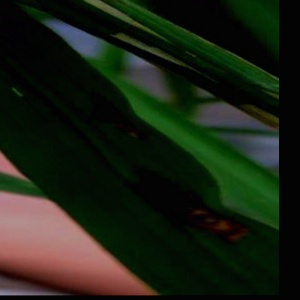Brown_Spot: (120, 162, 254, 255), (68, 82, 145, 150)
